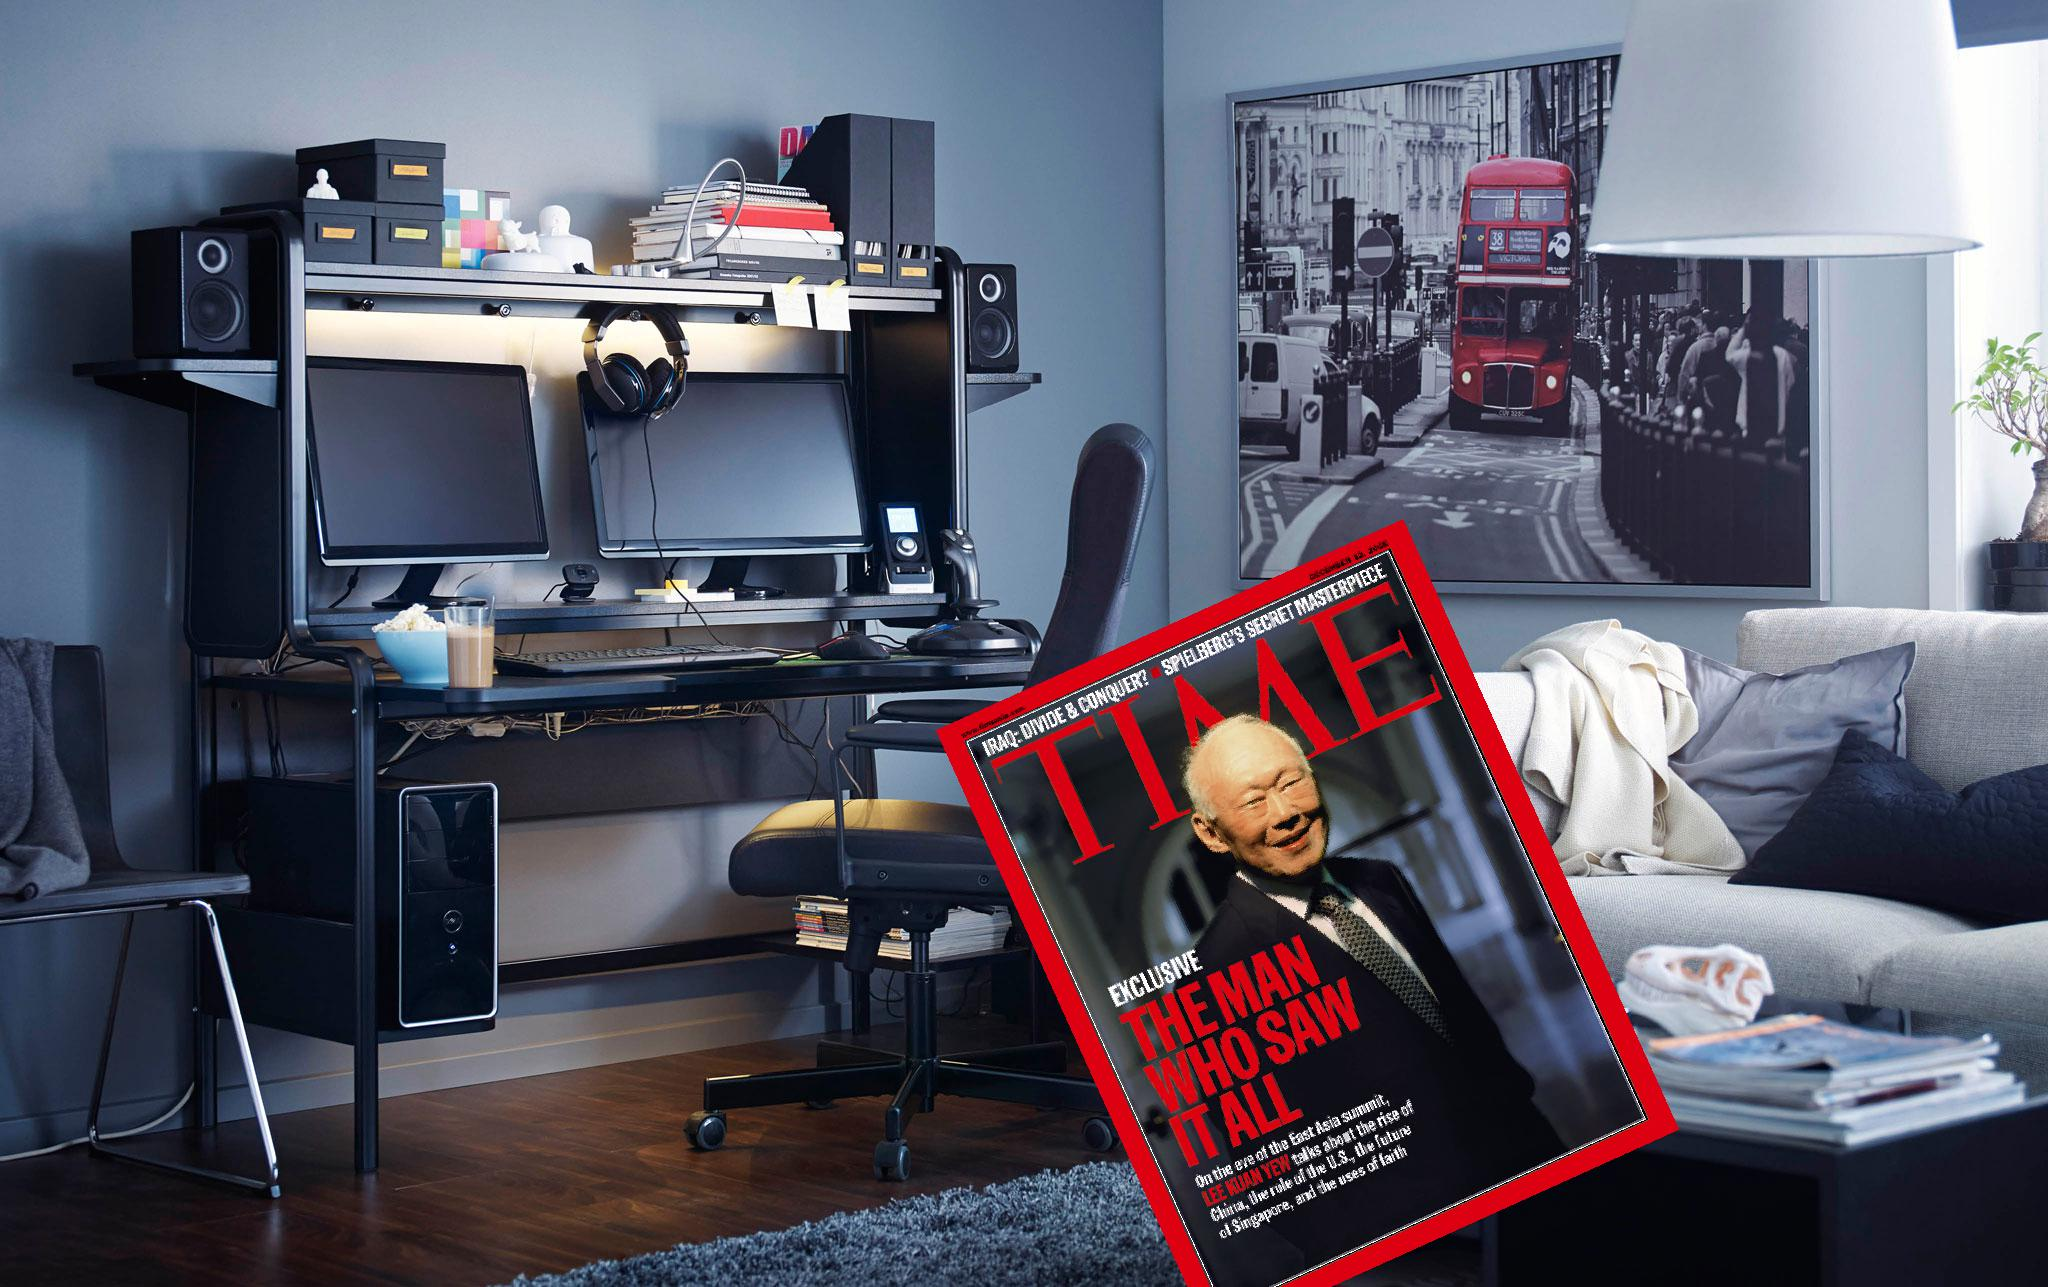times: (929, 517, 1680, 1287)
